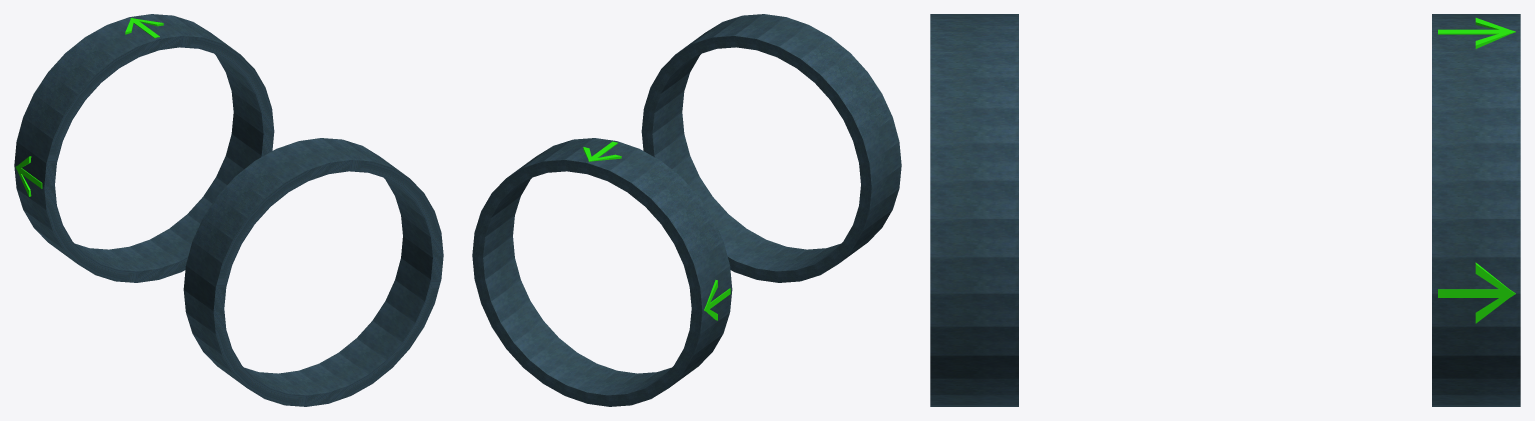
Rendered from Medium Dark Energy Pipe.obj.
The picture shows the model from 3 angles, left to right: view 1: azimuth 30°, elevation 25°; view 2: azimuth 150°, elevation 25°; view 3: azimuth 270°, elevation 25°; orthographic projection. The views are drawn at different scales.
Visible parts, largest first — view 1: Cylinder.008; view 2: Cylinder.008; view 3: Cylinder.008.
Part boxes in pixels (<box>): Cylinder.008: <box>14,14,443,406</box>; Cylinder.008: <box>472,14,901,406</box>; Cylinder.008: <box>930,14,1520,406</box>.
Bounding box in the file's own units: 0.6691 × 0.6691 × 1.
